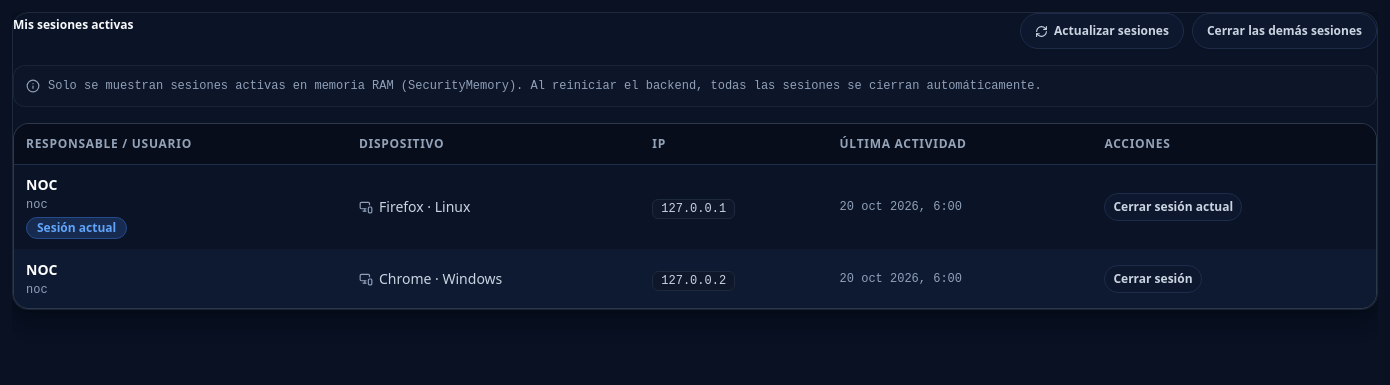
Test: identifica la sesión actual y revoca otras sin renovar actividad
Check: the text "Sesión actual" is shown, box [26, 217, 127, 239]
Check: the text "Firefox · Linux" is shown, box [379, 197, 470, 217]
Click the button "Cerrar las demás sesiones".
click(1284, 31)  # box [1192, 13, 1377, 49]
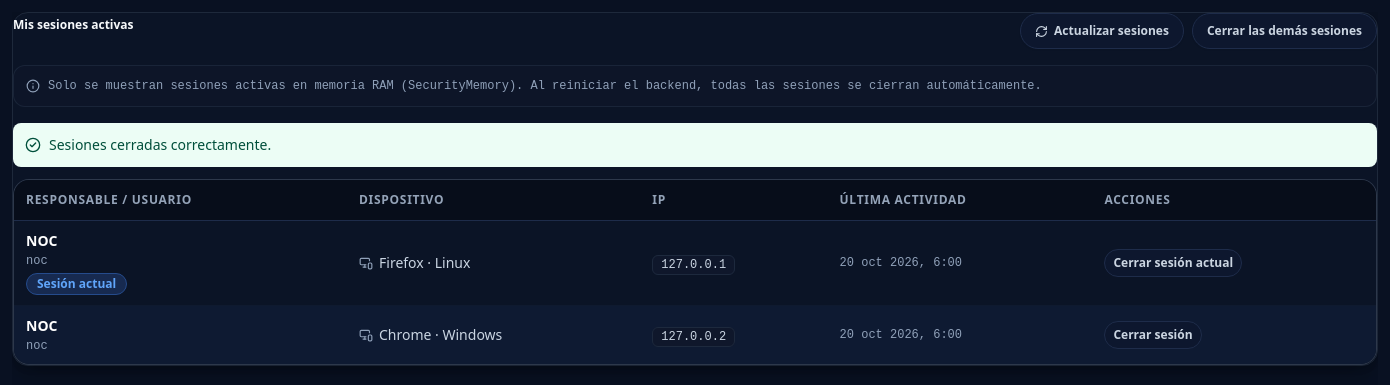
Check: the text "Sesiones cerradas correctamente." is shown, box [49, 135, 271, 155]
